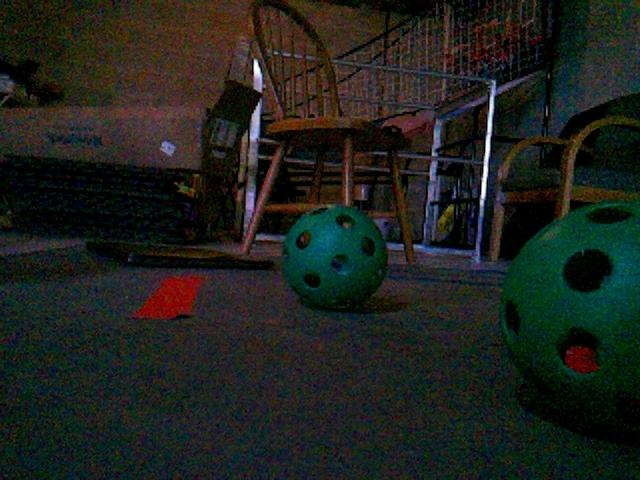Green: (497, 200, 640, 441), (279, 202, 391, 308)
